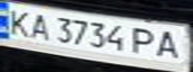3: (48, 15, 75, 44), (87, 19, 109, 49)
4: (106, 21, 130, 53)
7: (66, 17, 90, 47)
A: (151, 28, 187, 61), (24, 10, 54, 42)
K: (3, 6, 36, 37)
P: (127, 25, 160, 56)
